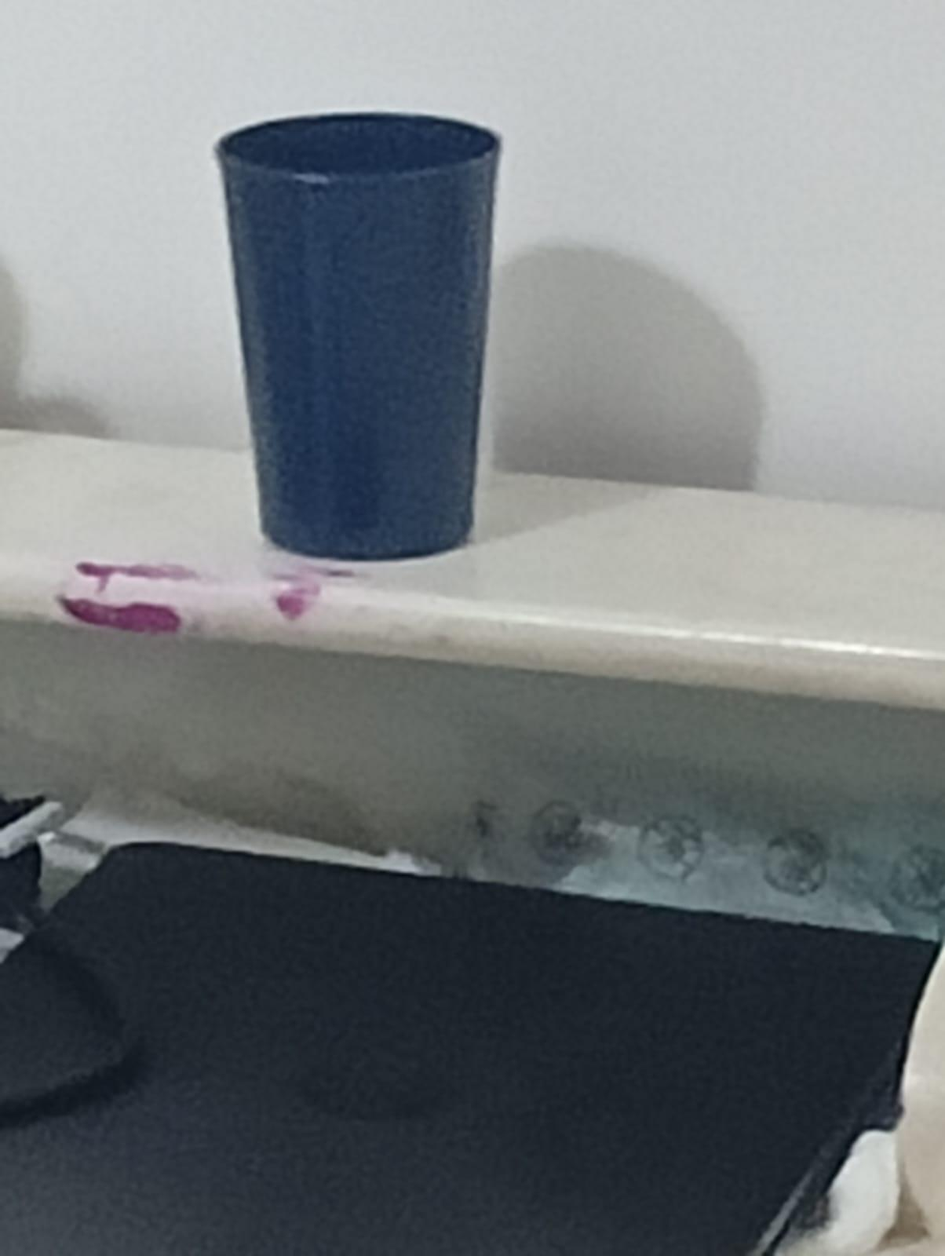cup: (216, 112, 500, 560), (224, 106, 502, 190)
